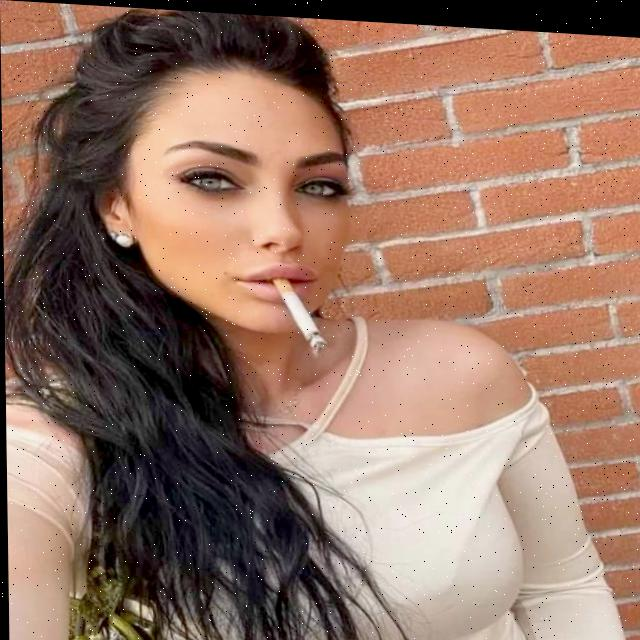cigarette: (273, 278, 328, 354)
